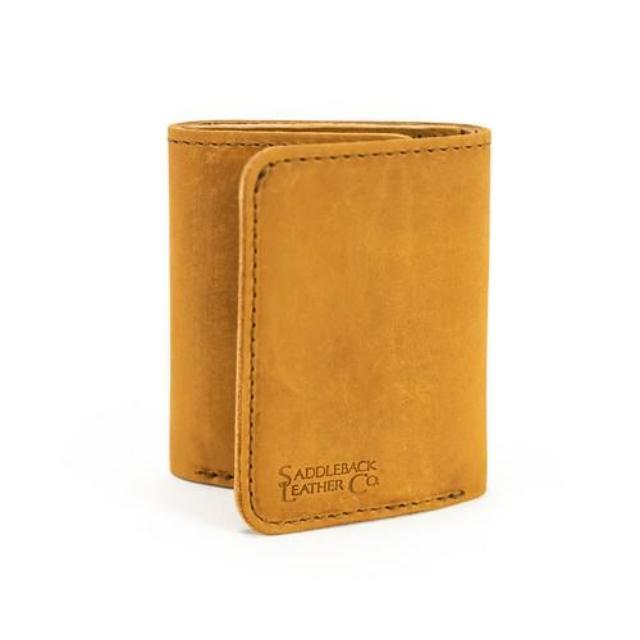wallet: (157, 110, 509, 542)
